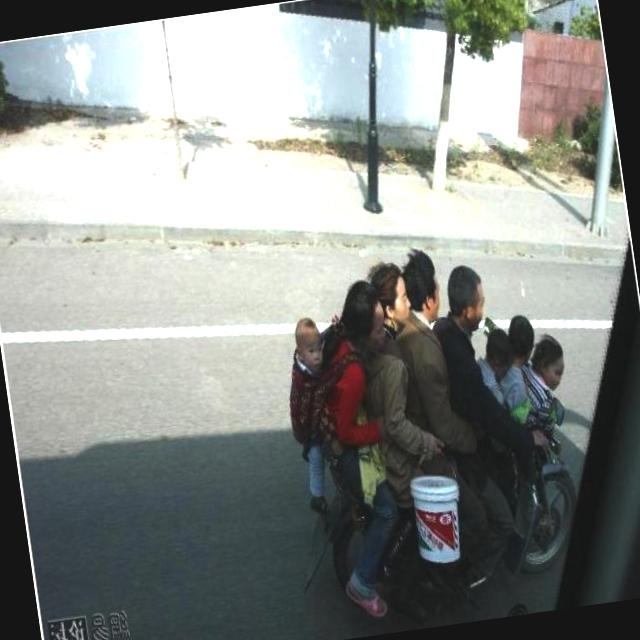motorcycle: (289, 387, 609, 640)
person: (303, 242, 429, 638), (433, 243, 562, 594), (358, 245, 463, 530), (388, 232, 490, 488), (270, 299, 358, 534), (470, 311, 533, 472), (504, 309, 558, 481), (522, 326, 580, 462)
rider_region: (266, 228, 598, 630)
